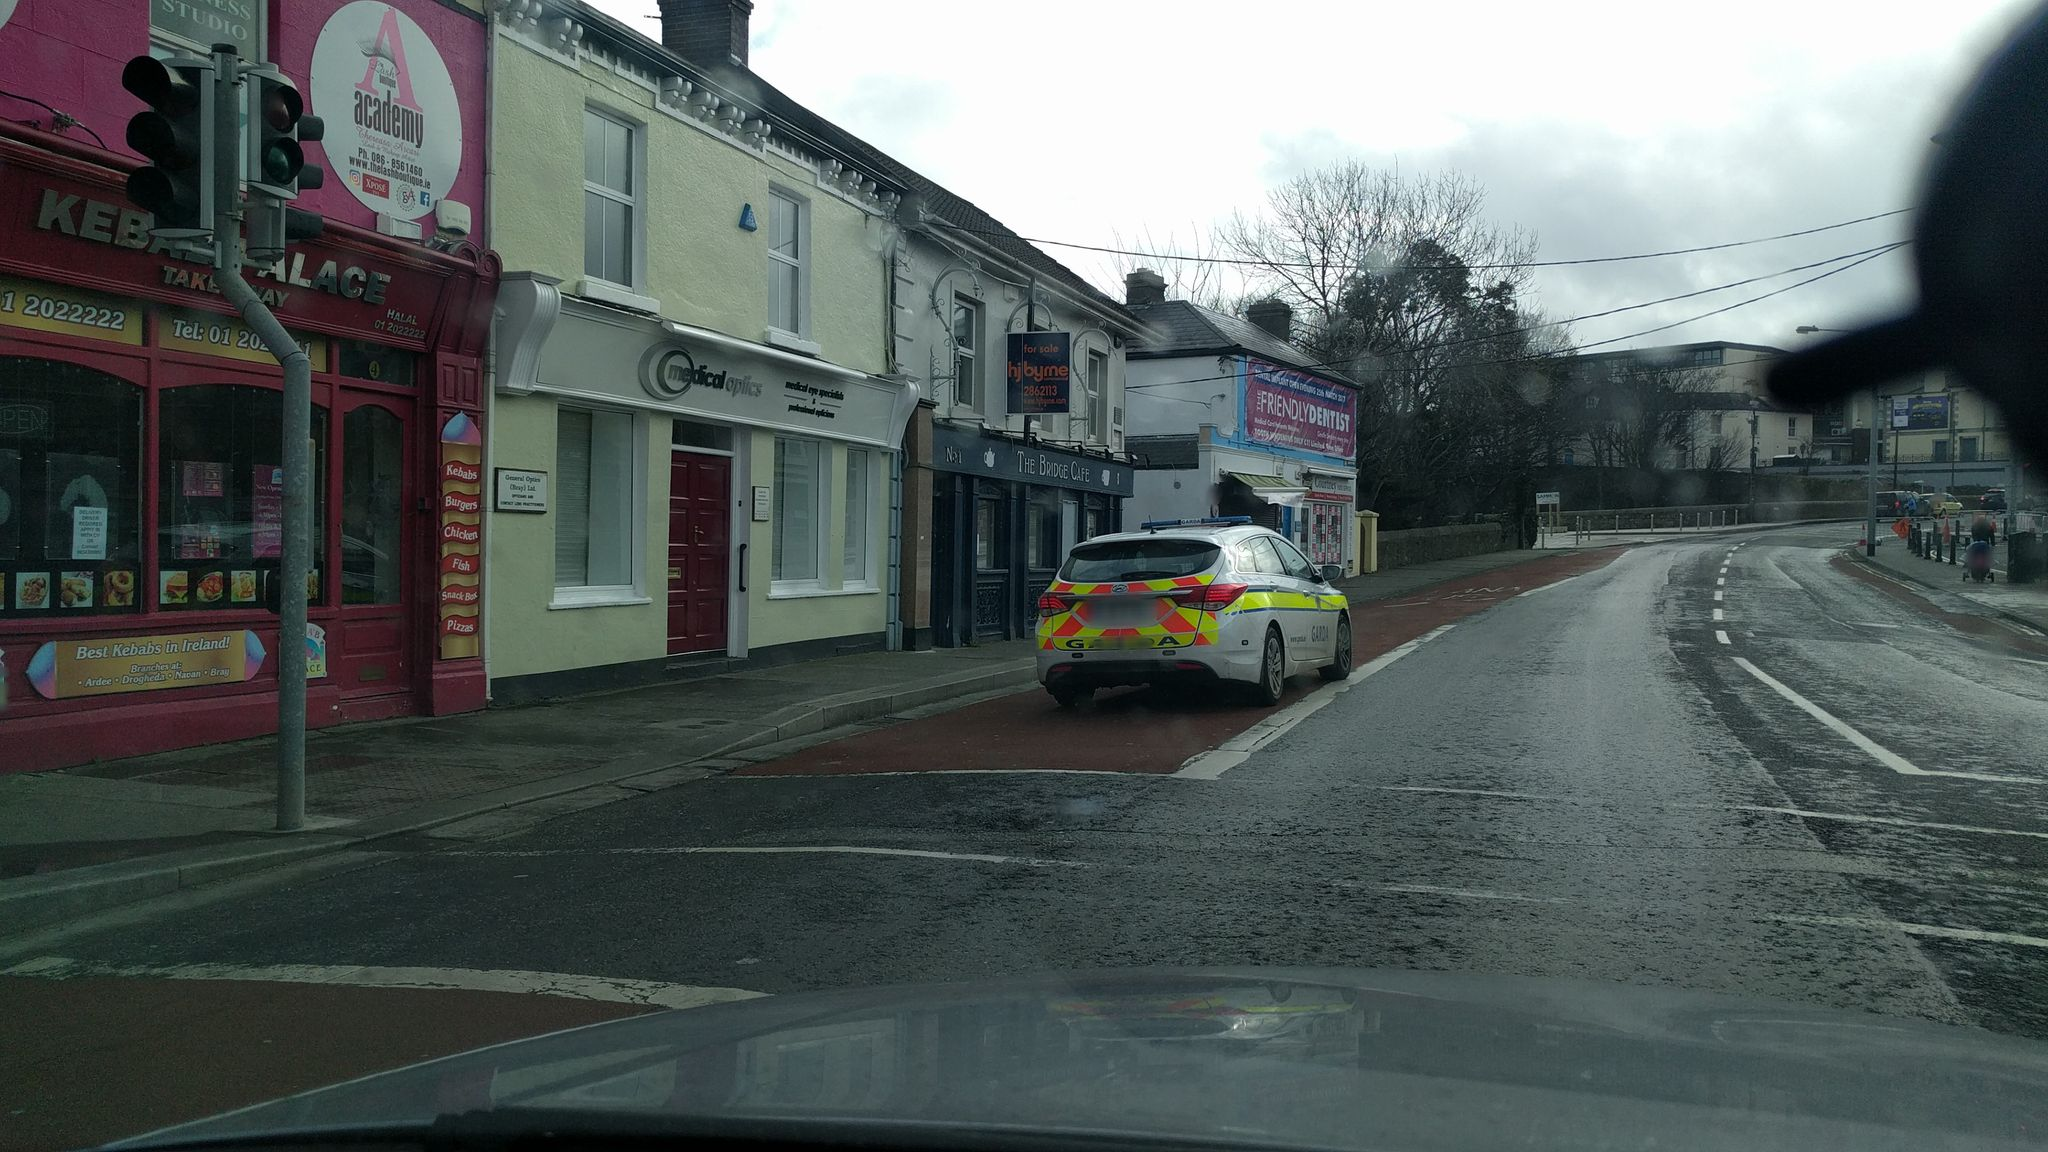property sign: (997, 325, 1084, 442)
vinyl banner: (1229, 346, 1367, 466)
